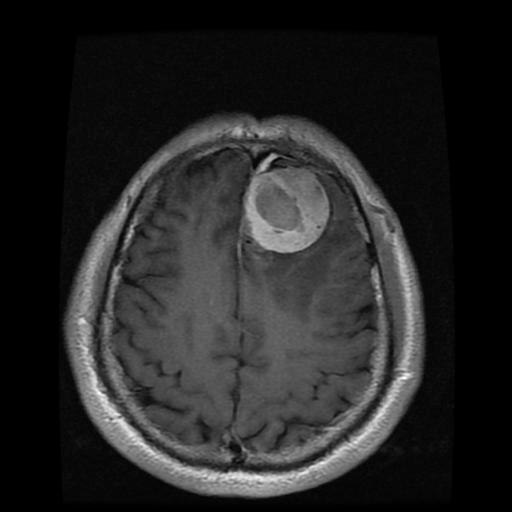Tumour-Meningioma: (233, 154, 341, 267)
